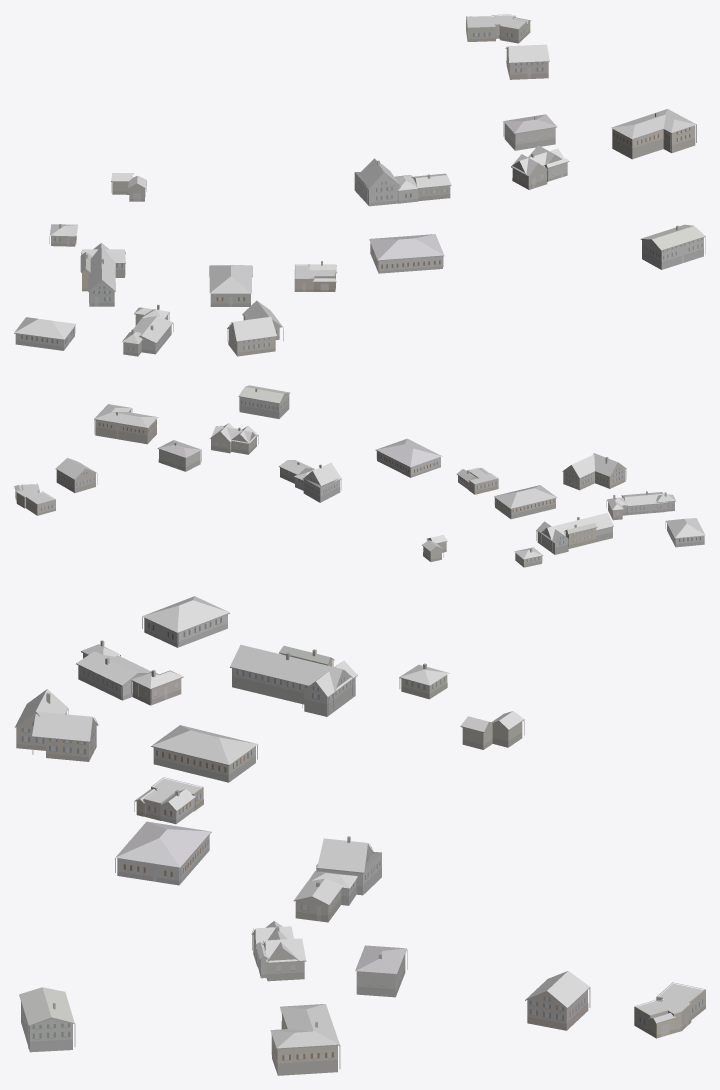
3 renders of one model, top to bottom at view 1: azimuth 30°, elevation 25°; view 2: azimuth 150°, elevation 25°; view 3: azimuth 270°, elevation 25°, orthographic. The views are drawn at different scales.
Visible parts, largest first — view 1: bld; view 2: bld; view 3: bld.
Part boxes in pixels (<box>): bld: <box>14,14,705,356</box>; bld: <box>14,385,705,567</box>; bld: <box>14,596,705,1075</box>.
Bounding box in the file's own units: 247 × 20.72 × 154.
